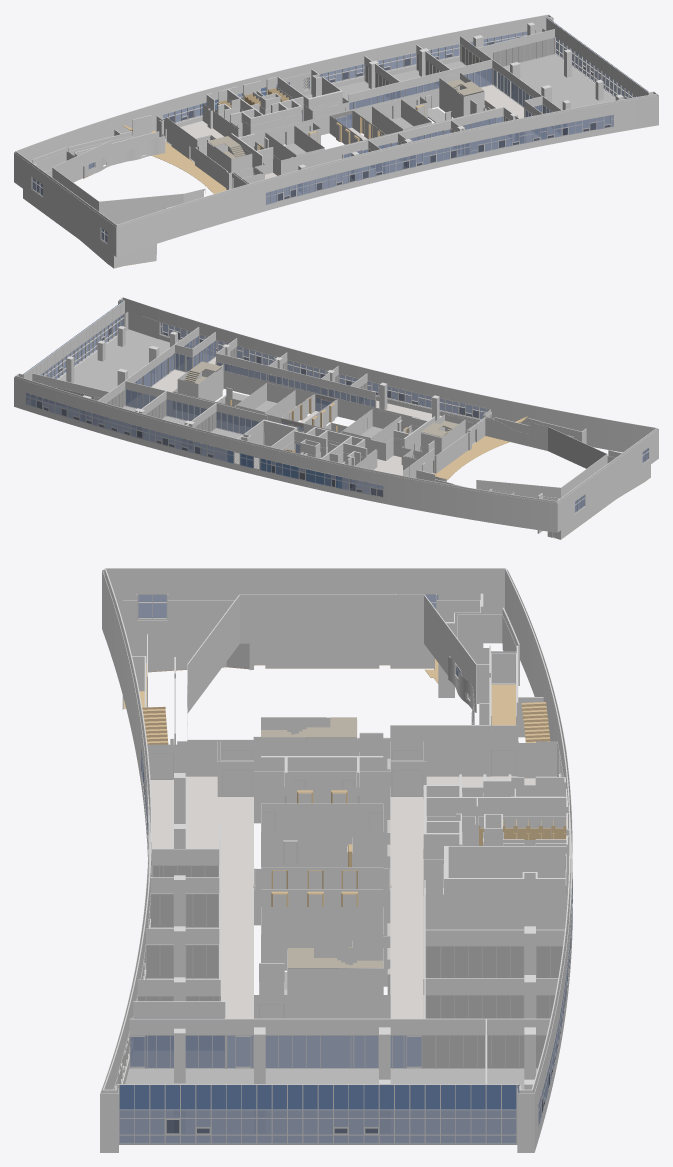
3 views of the same model, one above another, from view 1: azimuth 30°, elevation 25°; view 2: azimuth 150°, elevation 25°; view 3: azimuth 270°, elevation 25° (orthographic). The views are drawn at different scales.
Parts seen in each view (by area): view 1: A8_5F_Wall, A8_5F_Floor, A8_5F_WindowGlass, A8_5F_WindowFrame, A8_5F_Wall2, A8_5F_Pillar, A8_5F_Door, A8_5F_Stair, A8_5F_Elev.; view 2: A8_5F_Wall, A8_5F_WindowGlass, A8_5F_Floor, A8_5F_WindowFrame, A8_5F_Pillar, A8_5F_Door, A8_5F_Wall2, A8_5F_Stair, A8_5F_Elev., A8_5F_AutoDoor; view 3: A8_5F_Wall, A8_5F_Floor, A8_5F_WindowGlass, A8_5F_Wall2, A8_5F_WindowFrame, A8_5F_Door, A8_5F_Pillar, A8_5F_Stair, A8_5F_Elev., A8_5F_Partition.
Boxes of the visible parts, box(x1,y1,x2,y2) form: A8_5F_Wall: box(14, 14, 658, 268); A8_5F_Floor: box(28, 54, 615, 268); A8_5F_WindowGlass: box(163, 18, 647, 204); A8_5F_WindowFrame: box(32, 17, 648, 243); A8_5F_Wall2: box(365, 38, 554, 172); A8_5F_Pillar: box(298, 22, 623, 192); A8_5F_Door: box(67, 53, 518, 188); A8_5F_Stair: box(122, 79, 483, 158); A8_5F_Elev.: box(258, 105, 424, 150); A8_5F_Wall: box(14, 297, 658, 539); A8_5F_WindowGlass: box(24, 301, 489, 494); A8_5F_Floor: box(27, 329, 650, 537); A8_5F_WindowFrame: box(23, 303, 649, 513); A8_5F_Pillar: box(32, 326, 439, 448); A8_5F_Door: box(94, 336, 556, 538); A8_5F_Wall2: box(39, 347, 366, 449); A8_5F_Stair: box(184, 361, 527, 436); A8_5F_Elev.: box(230, 397, 408, 433); A8_5F_AutoDoor: box(281, 393, 337, 431); A8_5F_Wall: box(100, 568, 572, 1152); A8_5F_Floor: box(119, 659, 556, 1144); A8_5F_WindowGlass: box(119, 748, 572, 1143); A8_5F_Wall2: box(138, 866, 562, 1068); A8_5F_WindowFrame: box(117, 594, 572, 1144); A8_5F_Door: box(130, 658, 516, 1068); A8_5F_Pillar: box(174, 773, 535, 1132); A8_5F_Stair: box(142, 702, 550, 969); A8_5F_Elev.: box(271, 790, 358, 947); A8_5F_Partition: box(479, 819, 566, 845).
Size of the model in its own units: 89.2 by 7.89 by 34.03.
